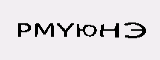М: (34, 22, 55, 39)
Н: (99, 22, 120, 39)
Р: (17, 21, 31, 38)
Э: (122, 21, 147, 40)
Ю: (75, 23, 96, 39)
Ү: (55, 21, 76, 38)
